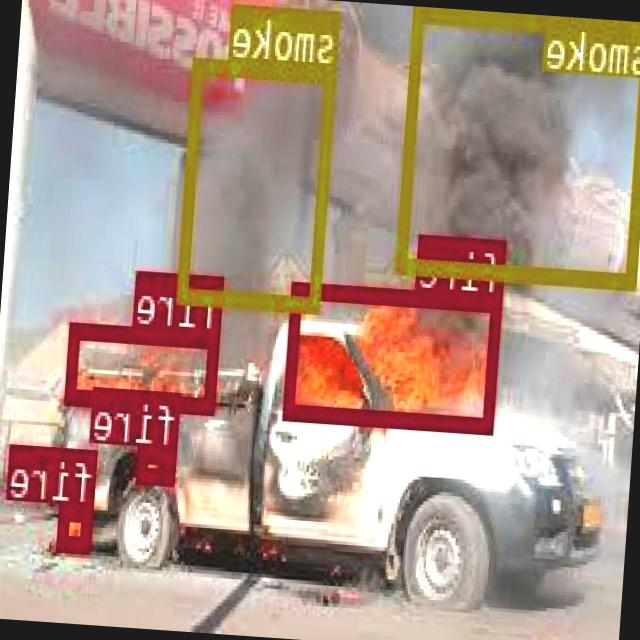fire: (285, 280, 505, 428), (68, 319, 220, 410), (58, 502, 96, 549), (139, 446, 179, 482)
smoke: (397, 6, 640, 284), (178, 54, 339, 310)
